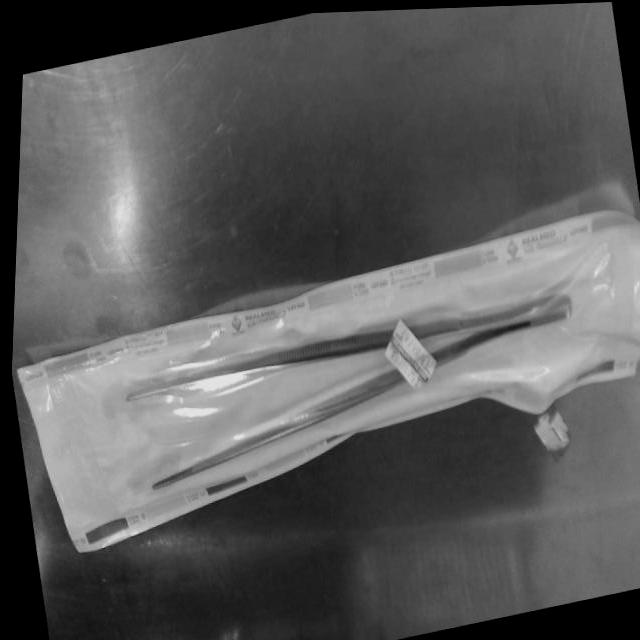General: (15, 208, 640, 556)
Sharps: (138, 294, 574, 492)
